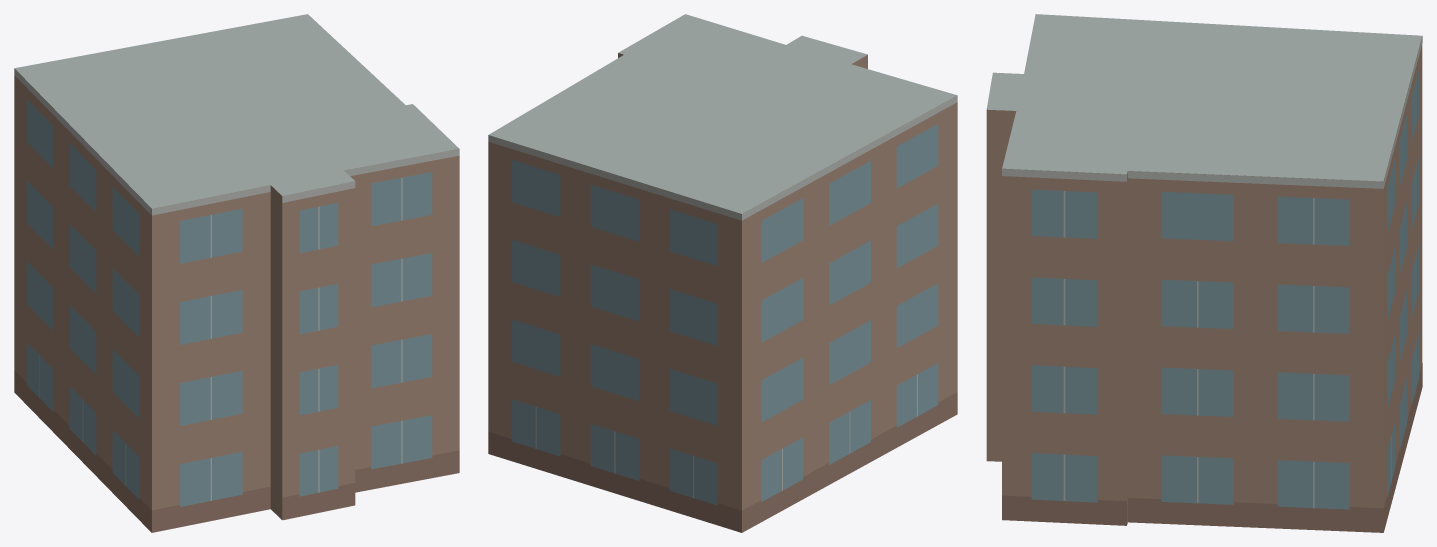
The model's file is survey-upis-32767016.glb.
The picture shows the model from 3 angles, left to right: view 1: azimuth 30°, elevation 25°; view 2: azimuth 150°, elevation 25°; view 3: azimuth 270°, elevation 25°; orthographic projection. The views are drawn at different scales.
Parts seen in each view (by area): view 1: survey-upis-32767016.tmp; view 2: survey-upis-32767016.tmp; view 3: survey-upis-32767016.tmp.
Boxes of the visible parts, x1,y1,x2,y2 form: survey-upis-32767016.tmp: (14,14,459,532); survey-upis-32767016.tmp: (488,14,957,532); survey-upis-32767016.tmp: (986,14,1422,532).
Size of the model in its own units: 11.76 by 11.5 by 12.94.
